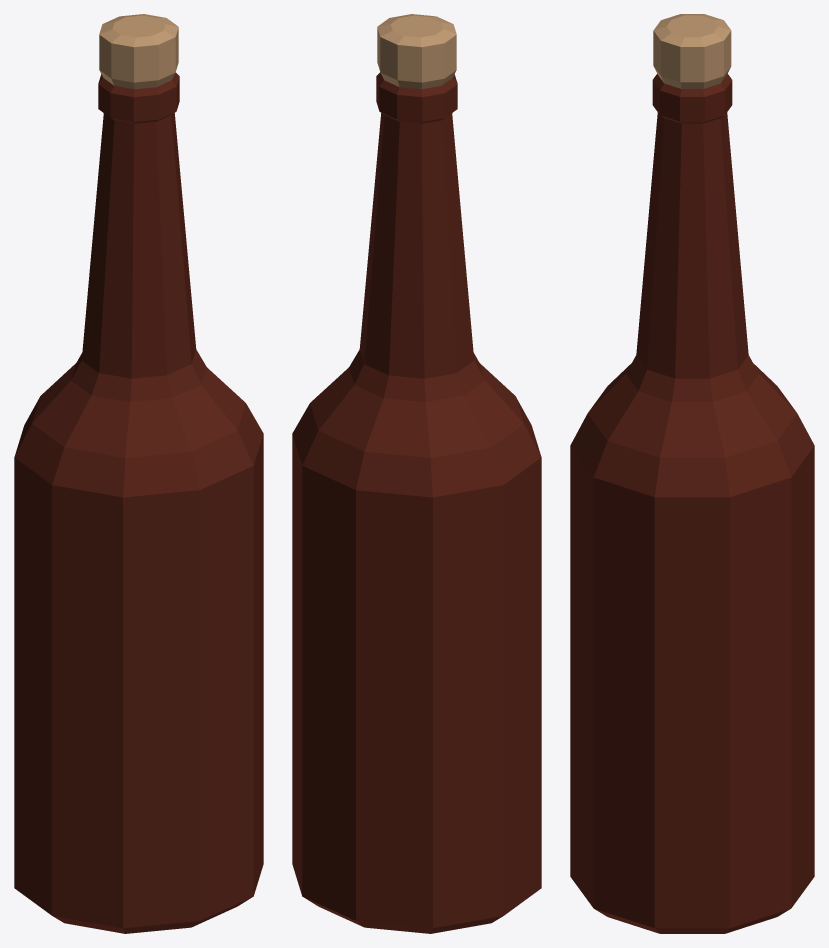
File: Bottle B-col.glb
The picture shows the model from 3 angles, left to right: view 1: azimuth 30°, elevation 25°; view 2: azimuth 150°, elevation 25°; view 3: azimuth 270°, elevation 25°; orthographic projection.
Parts seen in each view (by area): view 1: Bottle B-col; view 2: Bottle B-col; view 3: Bottle B-col.
Part boxes in pixels (box(x1,y1,x2,y2)): Bottle B-col: box(14, 14, 263, 933); Bottle B-col: box(292, 14, 541, 933); Bottle B-col: box(570, 14, 814, 933).
Size of the model in its own units: 0.0804 by 0.3134 by 0.0804.
